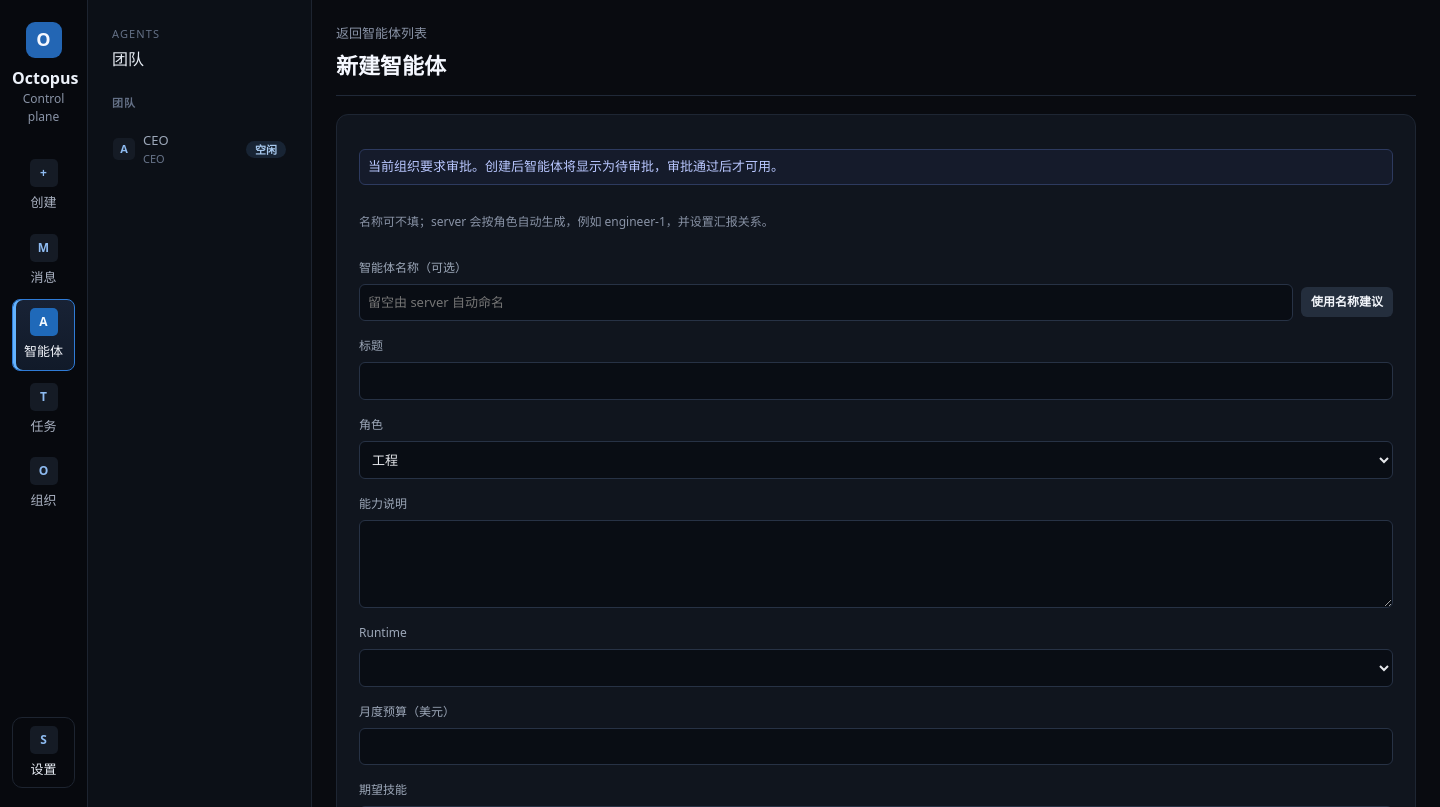
hires agents as the CEO actor and opens the pending approval agent
This screenshot has width=1440, height=807.
Check: the text "当前组织要求审批。创建后智能体将显示为待审批，审批通过后才可用。" is shown, box [359,149,1393,184]
Type "Reviewer" into the field labelled "智能体名称（可选） 使用名称建议" at (826, 302), box [359,284,1293,321]
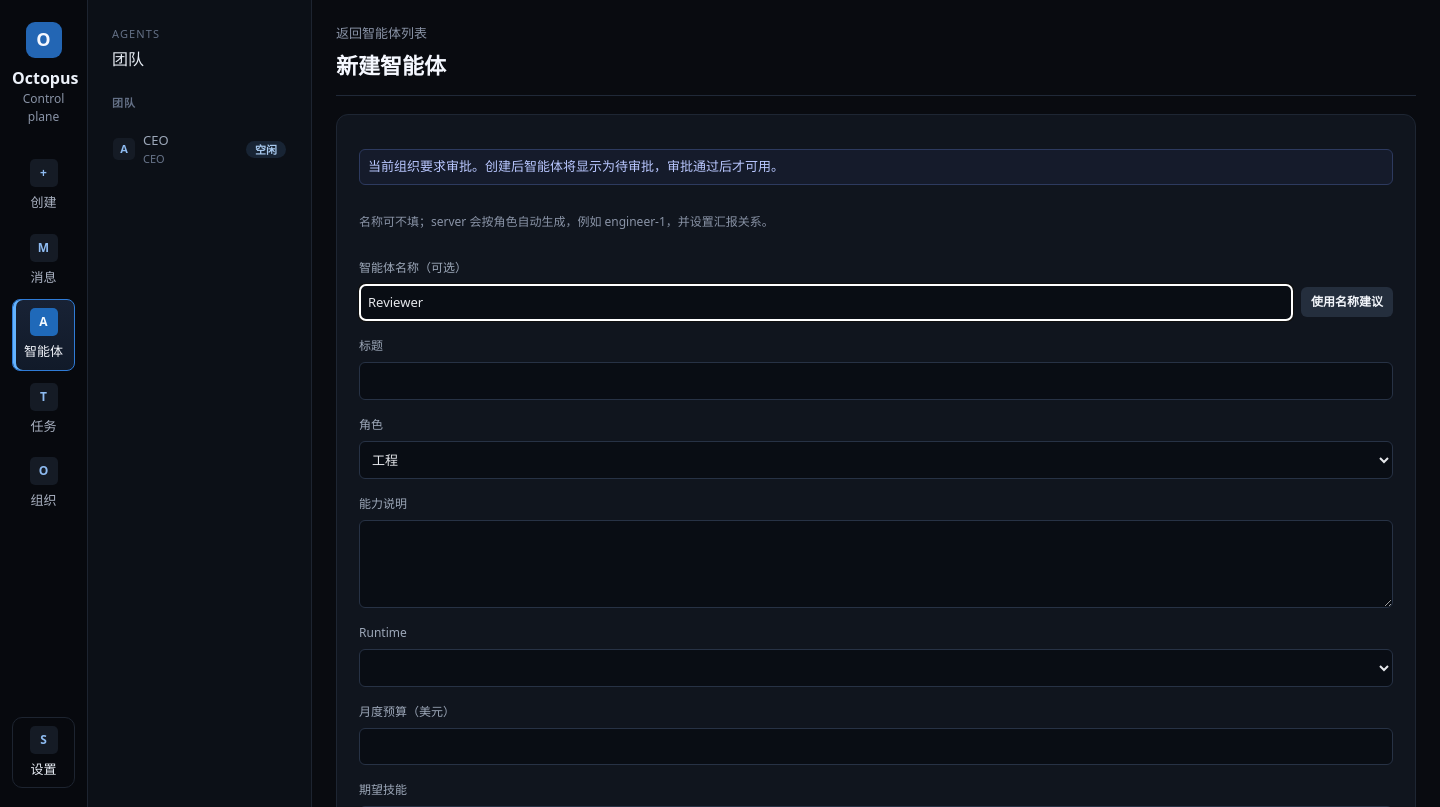
Select "测试" in the dropdown labelled "角色" at (876, 460), box [359,440,1393,478]
(page scrolled)
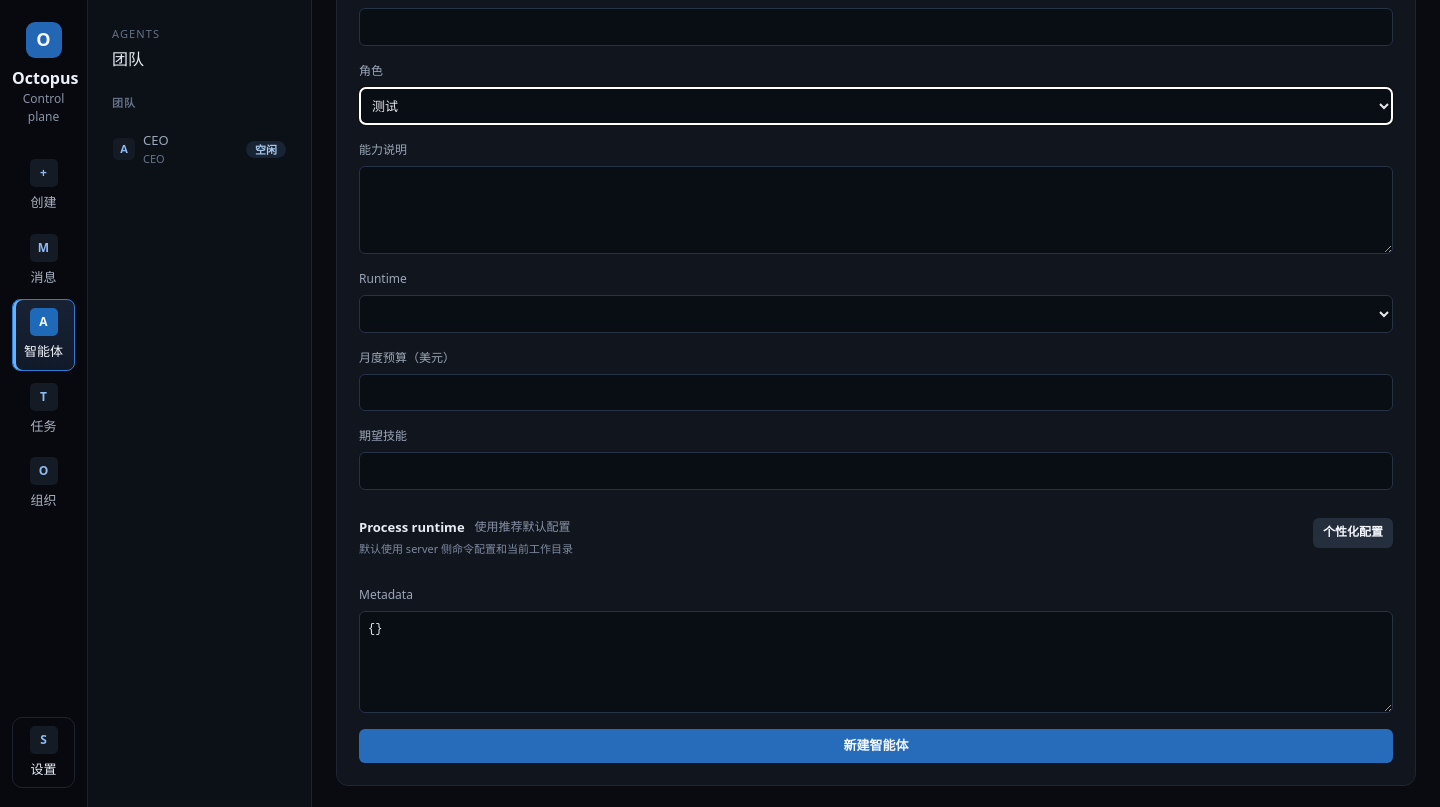
Click the button "新建智能体" at (876, 746), box [359,728,1393,762]
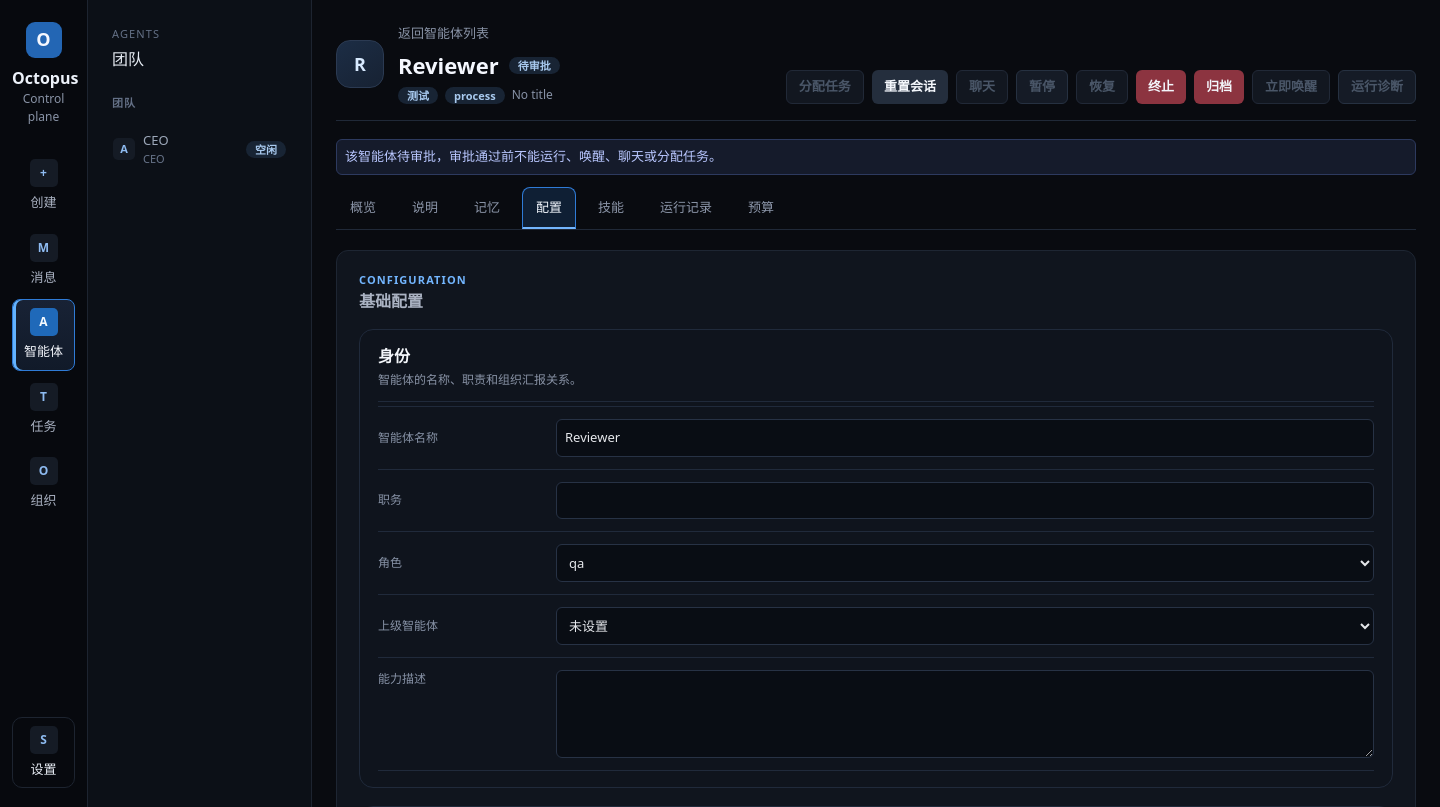
Check: the heading "Reviewer" is shown, box [398,52,499,79]
Check: the text "待审批" is shown, box [509,57,560,74]
